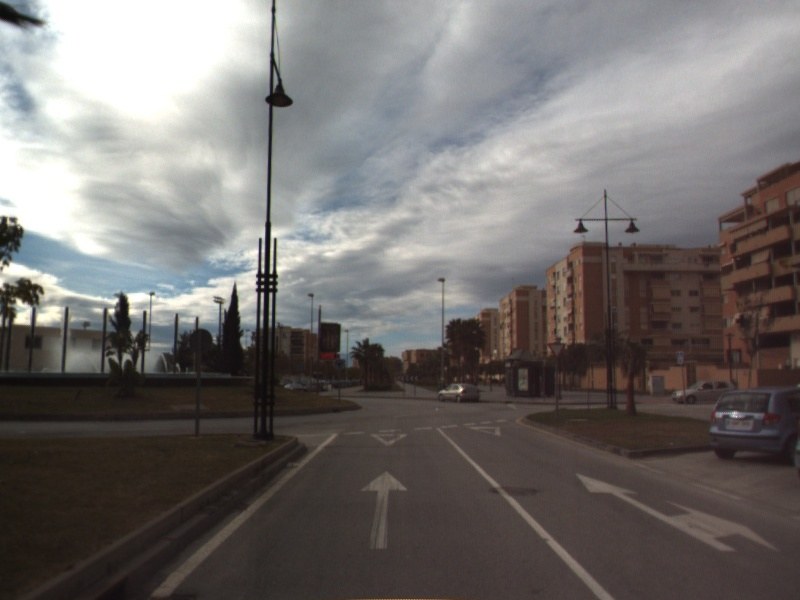STRAIGHT: (358, 468, 409, 551)
STRAIGHT_RIGHT: (574, 471, 783, 554)
